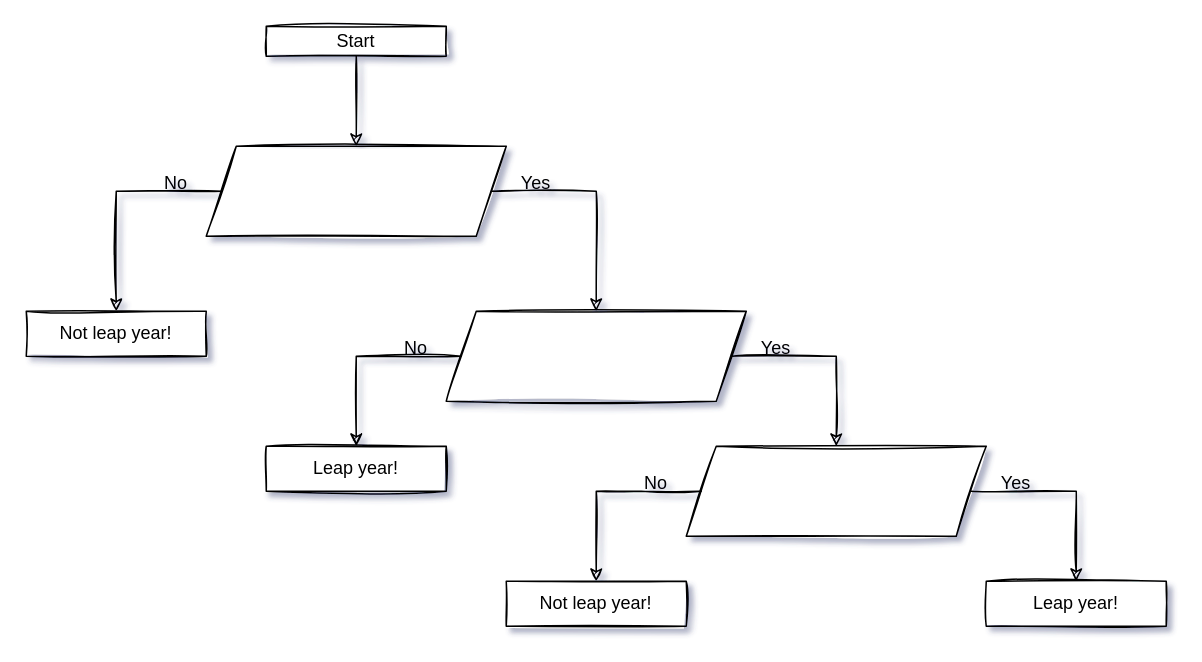
Image size: 1202x662. Some labels were removed from this diagram. The box of each missing label's shape, as (x1, y1, x2, y2) in pixels:
Is the year evenly divisible by 100?: (445, 310, 746, 401)
Is the year evenly divisible by 400?: (685, 445, 986, 536)
Is the yearevenly divisible by 4?: (205, 145, 506, 236)
